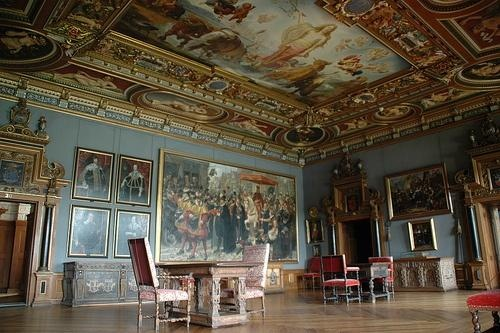chair: (128, 238, 192, 332), (219, 245, 270, 319), (321, 255, 363, 307), (468, 290, 500, 333), (370, 257, 397, 300), (298, 255, 324, 293)
